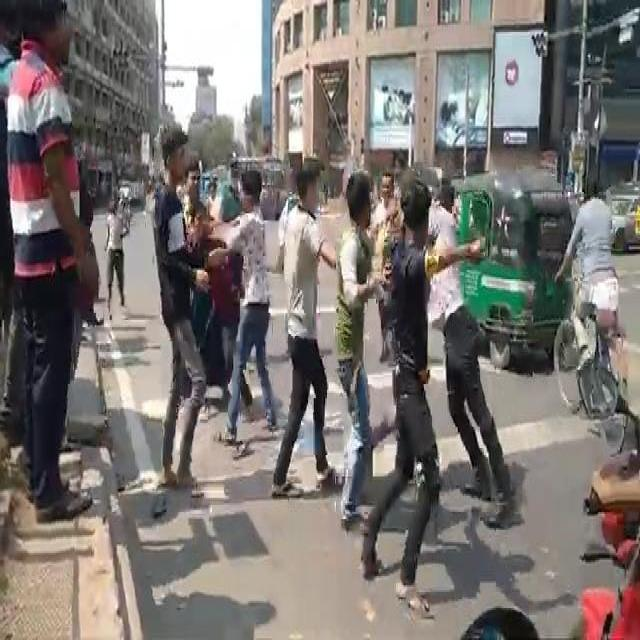fight: (322, 136, 509, 557), (124, 86, 278, 436), (0, 0, 102, 512)
